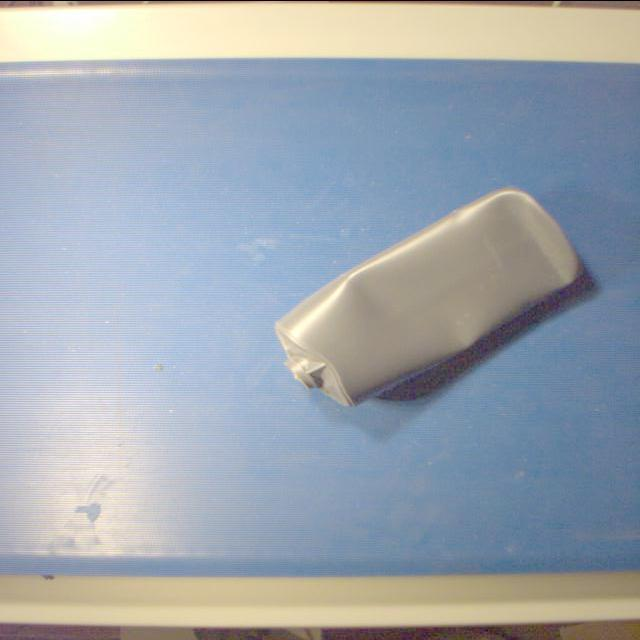HDPE Plastic: (270, 184, 588, 412)
